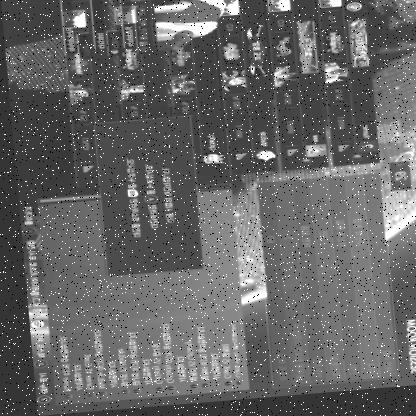streamer: (152, 0, 223, 16)
